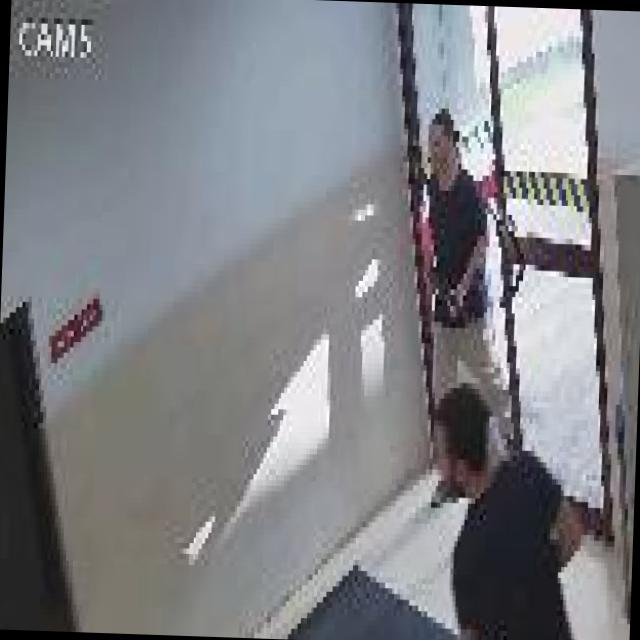Guns: (414, 236, 478, 348)
